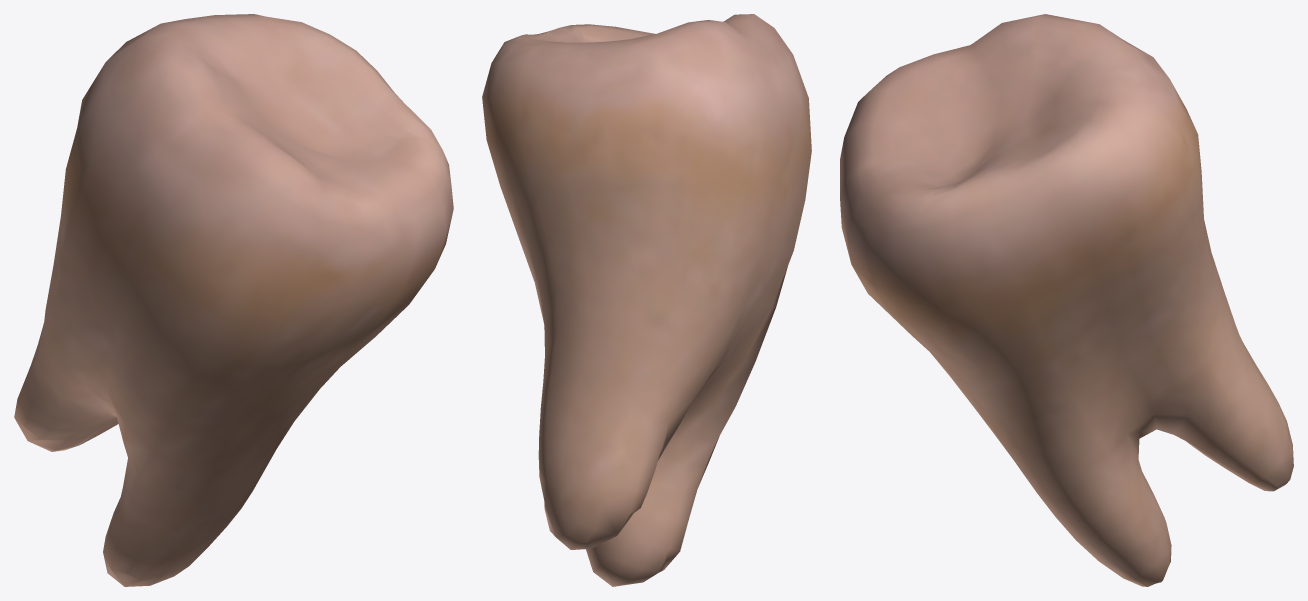
The picture shows the model from 3 angles, left to right: view 1: azimuth 30°, elevation 25°; view 2: azimuth 150°, elevation 25°; view 3: azimuth 270°, elevation 25°; orthographic projection. The views are drawn at different scales.
Visible parts, largest first — view 1: t_48; view 2: t_48; view 3: t_48.
Part boxes in pixels (x1=…): t_48: x1=14, y1=14, x2=453, y2=586; t_48: x1=482, y1=14, x2=811, y2=586; t_48: x1=840, y1=14, x2=1293, y2=586.
Bounding box in the file's own units: 0.0813 × 0.1488 × 0.1111.
Materials: 1 (1 with a texture image).
